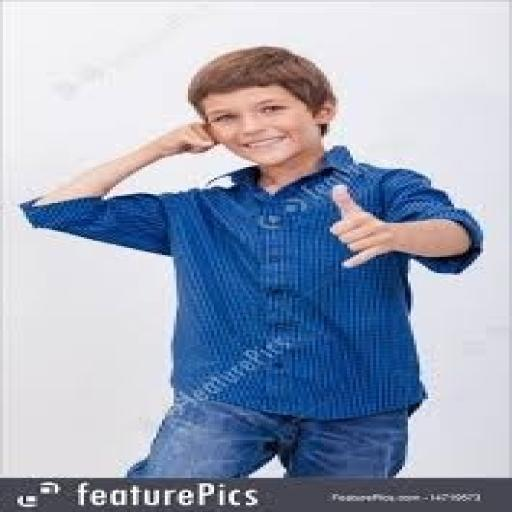calling: (17, 43, 486, 480)
